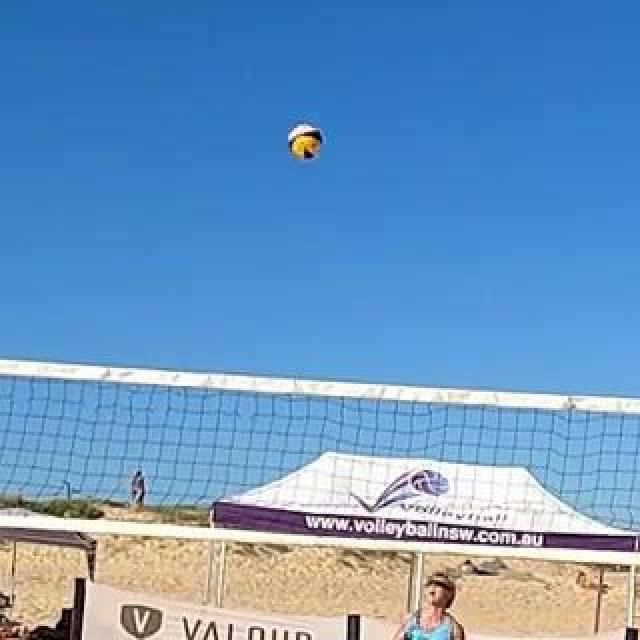volleyball: (289, 126, 323, 160)
